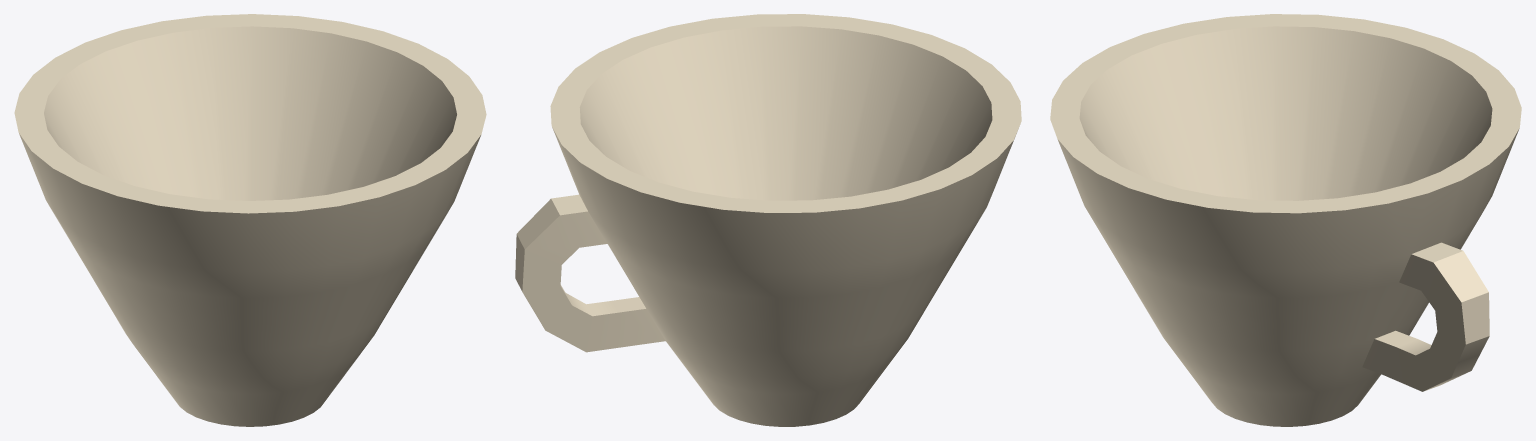
3 views of the same model, side by side, from view 1: azimuth 30°, elevation 25°; view 2: azimuth 150°, elevation 25°; view 3: azimuth 270°, elevation 25° (orthographic).
Visible parts, largest first — view 1: 4oz; view 2: 4oz; view 3: 4oz.
Boxes of the visible parts, x1,y1,x2,y2 form: 4oz: [14, 14, 486, 426]; 4oz: [515, 14, 1021, 426]; 4oz: [1050, 14, 1521, 426].
Size of the model in its own units: 23.2 by 15.26 by 23.2.
